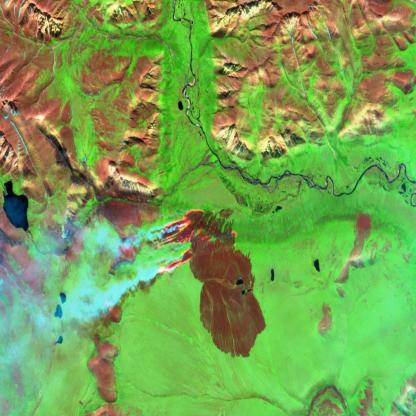fire: (140, 204, 241, 281)
